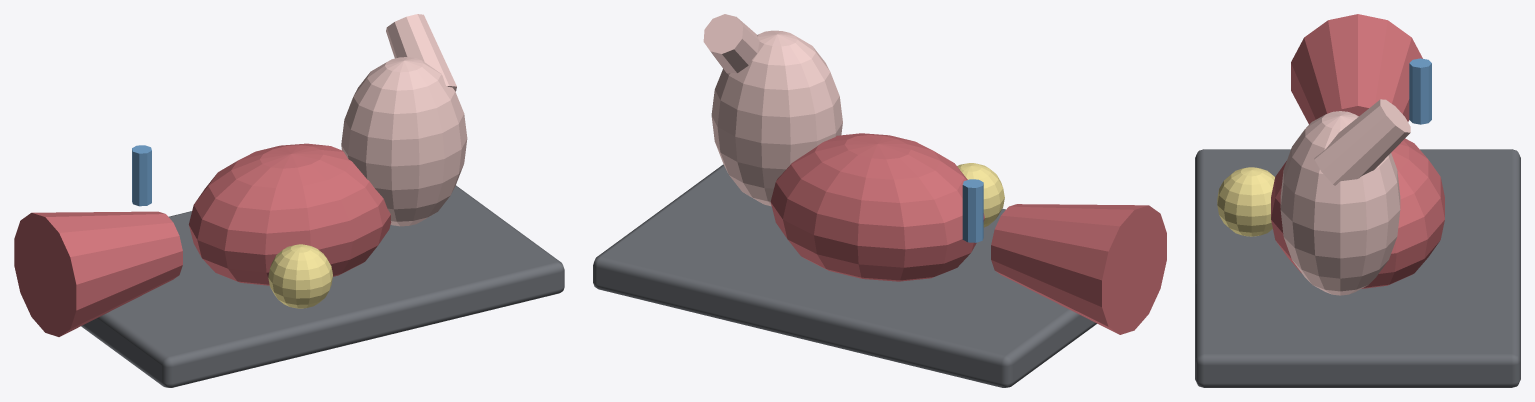
File: liver.glb
3 views of the same model, side by side, from view 1: azimuth 30°, elevation 25°; view 2: azimuth 150°, elevation 25°; view 3: azimuth 270°, elevation 25° (orthographic). The views are drawn at different scales.
Parts seen in each view (by area): view 1: liver-model; view 2: liver-model; view 3: liver-model.
Boxes of the visible parts, <box> form: liver-model: <box>14,14,564,387</box>; liver-model: <box>593,14,1166,387</box>; liver-model: <box>1195,14,1520,387</box>.
Bounding box in the file's own units: 0.445 × 0.2221 × 0.26.
